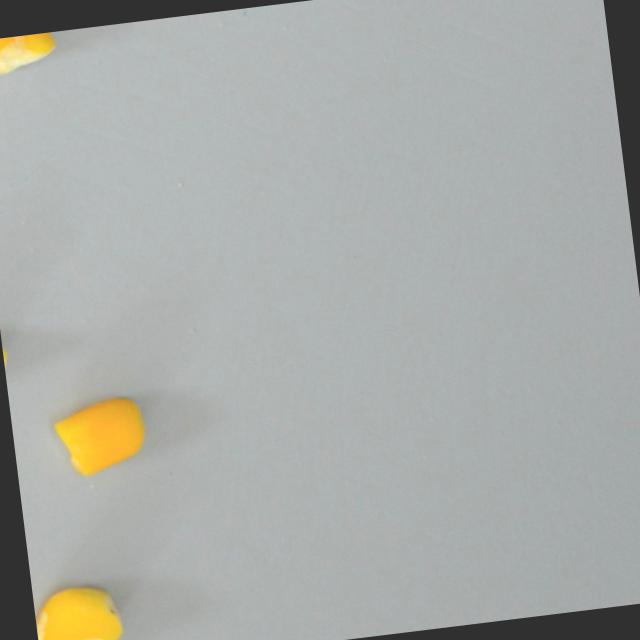estandar: (51, 394, 151, 478), (0, 30, 59, 76)
punto_negro: (31, 580, 126, 640)
